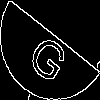G: (25, 25, 76, 86)
